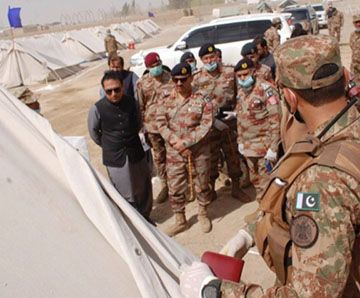uniform: (240, 92, 354, 295), (161, 84, 216, 221), (226, 66, 279, 191), (193, 59, 242, 189), (134, 65, 176, 200)
